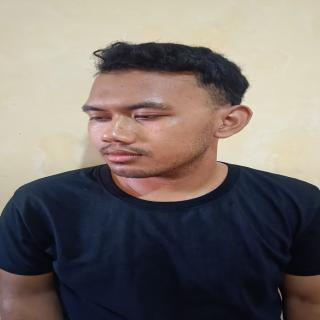Sedih: (71, 65, 232, 183)
